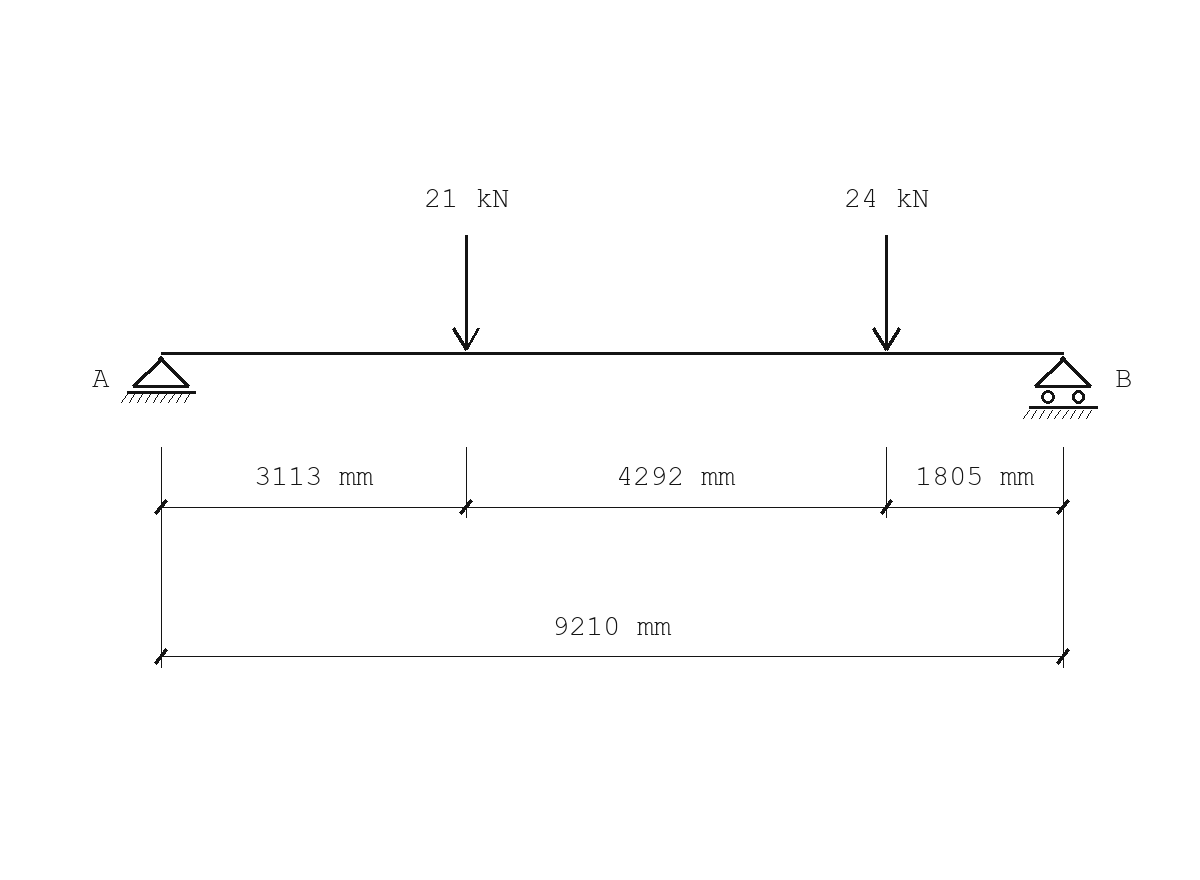pin_support: (121, 356, 196, 403)
point_load: (872, 235, 901, 351), (452, 235, 480, 351)
roller_support: (1023, 356, 1098, 419)
